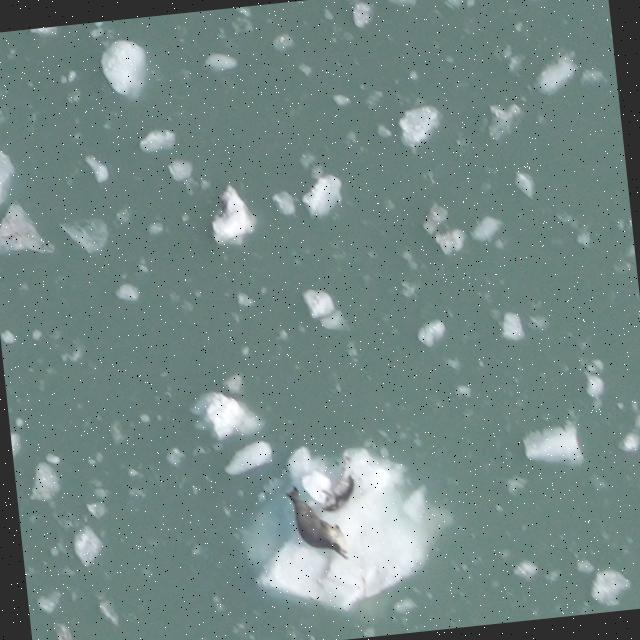seal: (281, 475, 353, 569), (310, 448, 363, 516)
